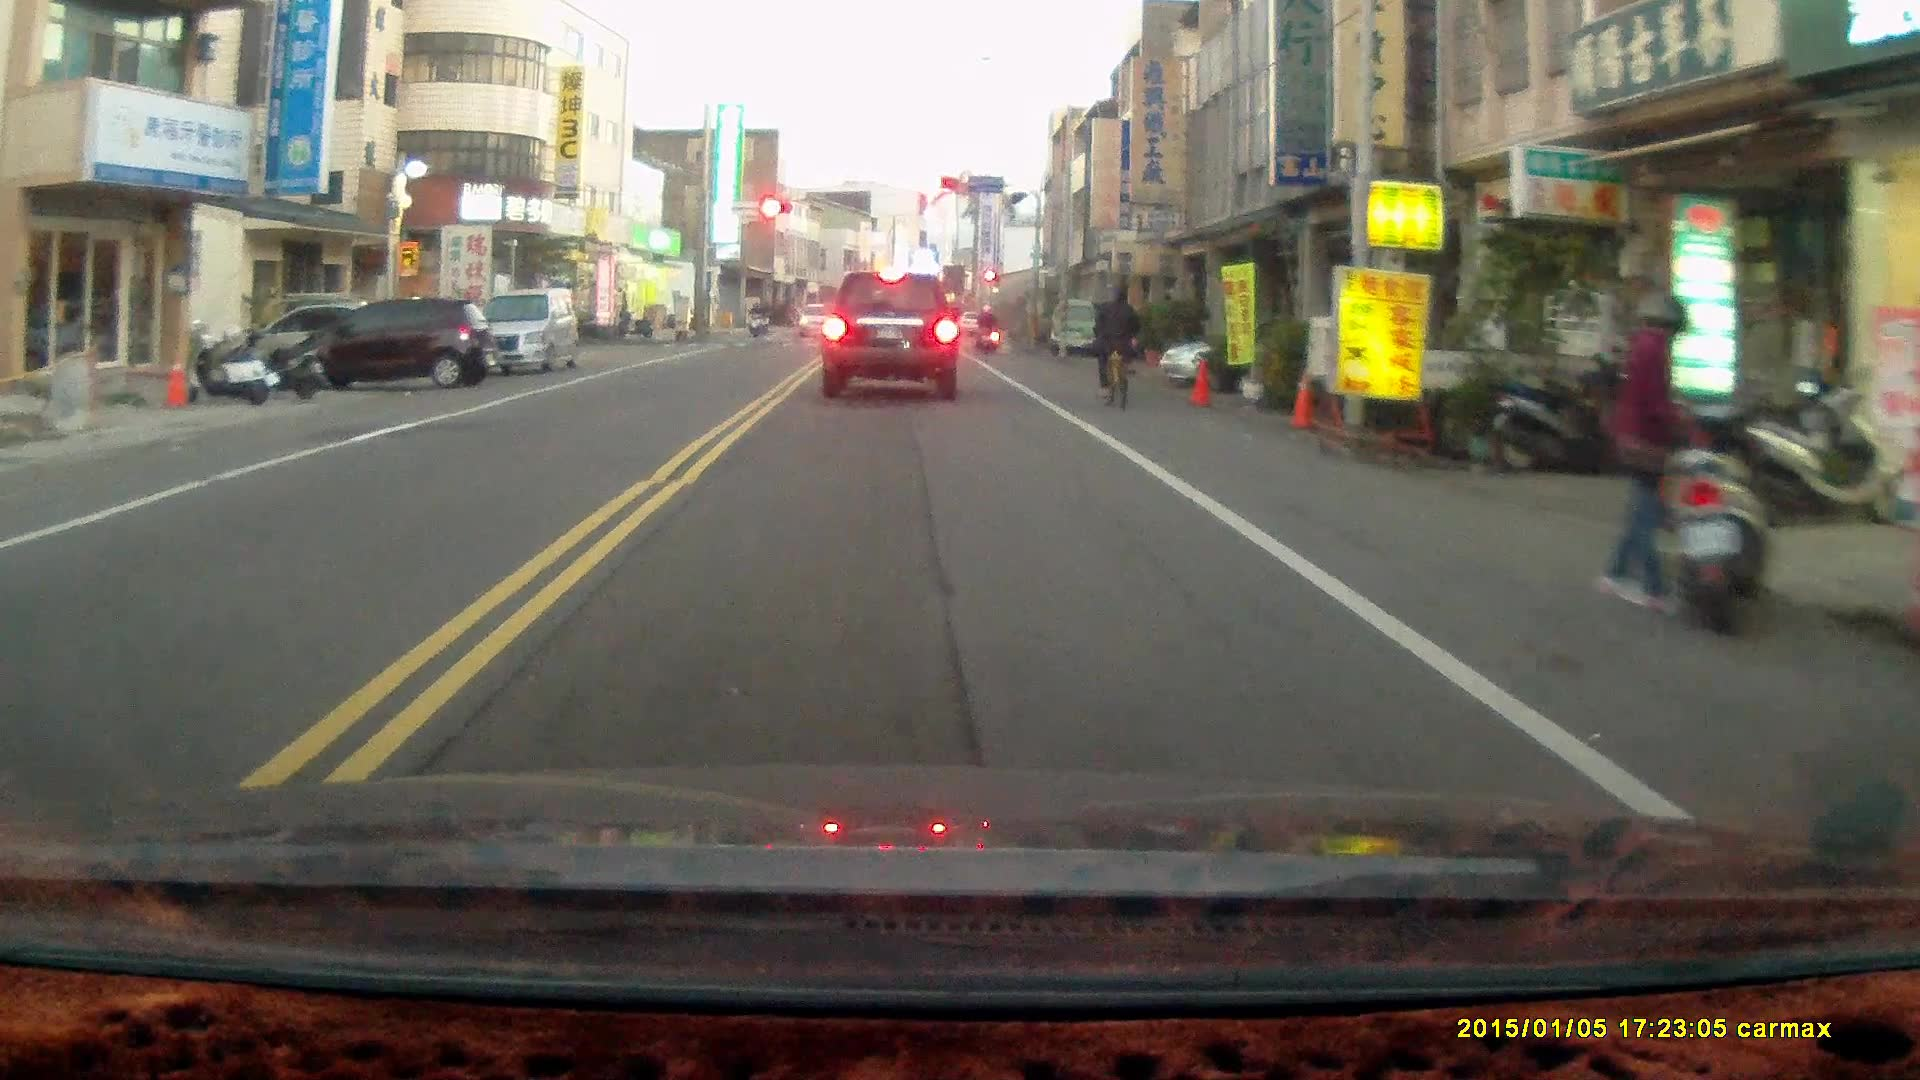pedestrian: (1598, 292, 1706, 616)
rider: (1092, 278, 1143, 408), (973, 297, 999, 352), (745, 300, 767, 340)
vehicle: (289, 299, 495, 400), (820, 269, 961, 403), (1157, 320, 1389, 391), (457, 286, 583, 378)
